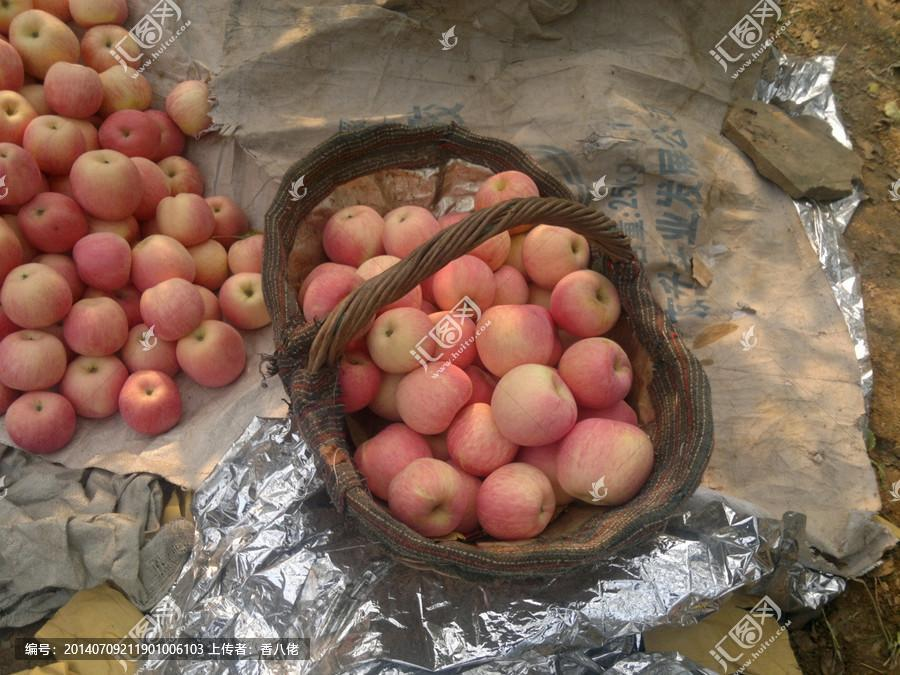apple: (556, 413, 654, 503), (488, 362, 572, 441), (476, 462, 555, 539), (387, 454, 466, 531), (396, 363, 473, 433), (476, 304, 555, 372), (555, 335, 634, 403), (70, 150, 144, 220), (549, 268, 620, 338), (97, 106, 185, 162), (174, 320, 244, 389), (10, 9, 81, 76), (60, 352, 129, 419), (6, 387, 75, 454), (3, 260, 72, 327), (1, 323, 69, 390), (367, 305, 436, 370), (118, 367, 183, 435), (17, 190, 89, 249), (319, 205, 384, 267), (44, 57, 108, 119), (21, 113, 85, 175), (139, 277, 205, 336), (523, 225, 589, 284), (62, 294, 128, 353), (432, 253, 498, 312), (473, 169, 539, 228), (132, 232, 194, 292), (72, 229, 134, 289), (219, 273, 279, 328), (162, 78, 215, 138), (379, 204, 440, 254), (154, 190, 213, 239)
